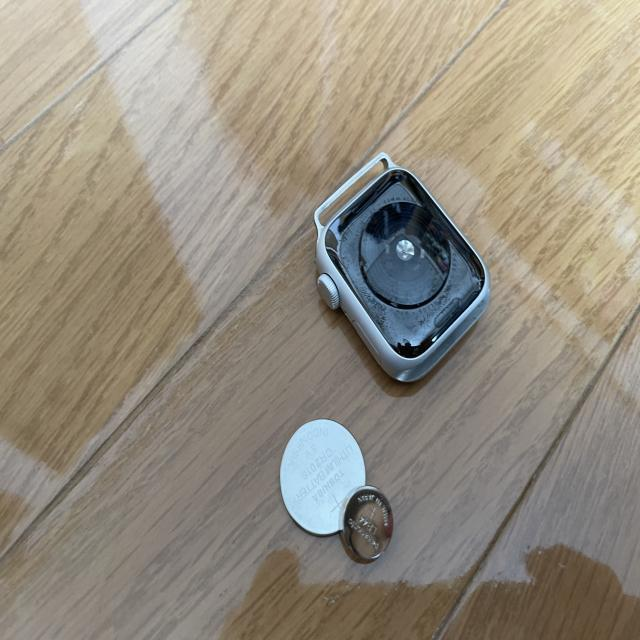COIN: (279, 421, 367, 538), (338, 486, 395, 566)
